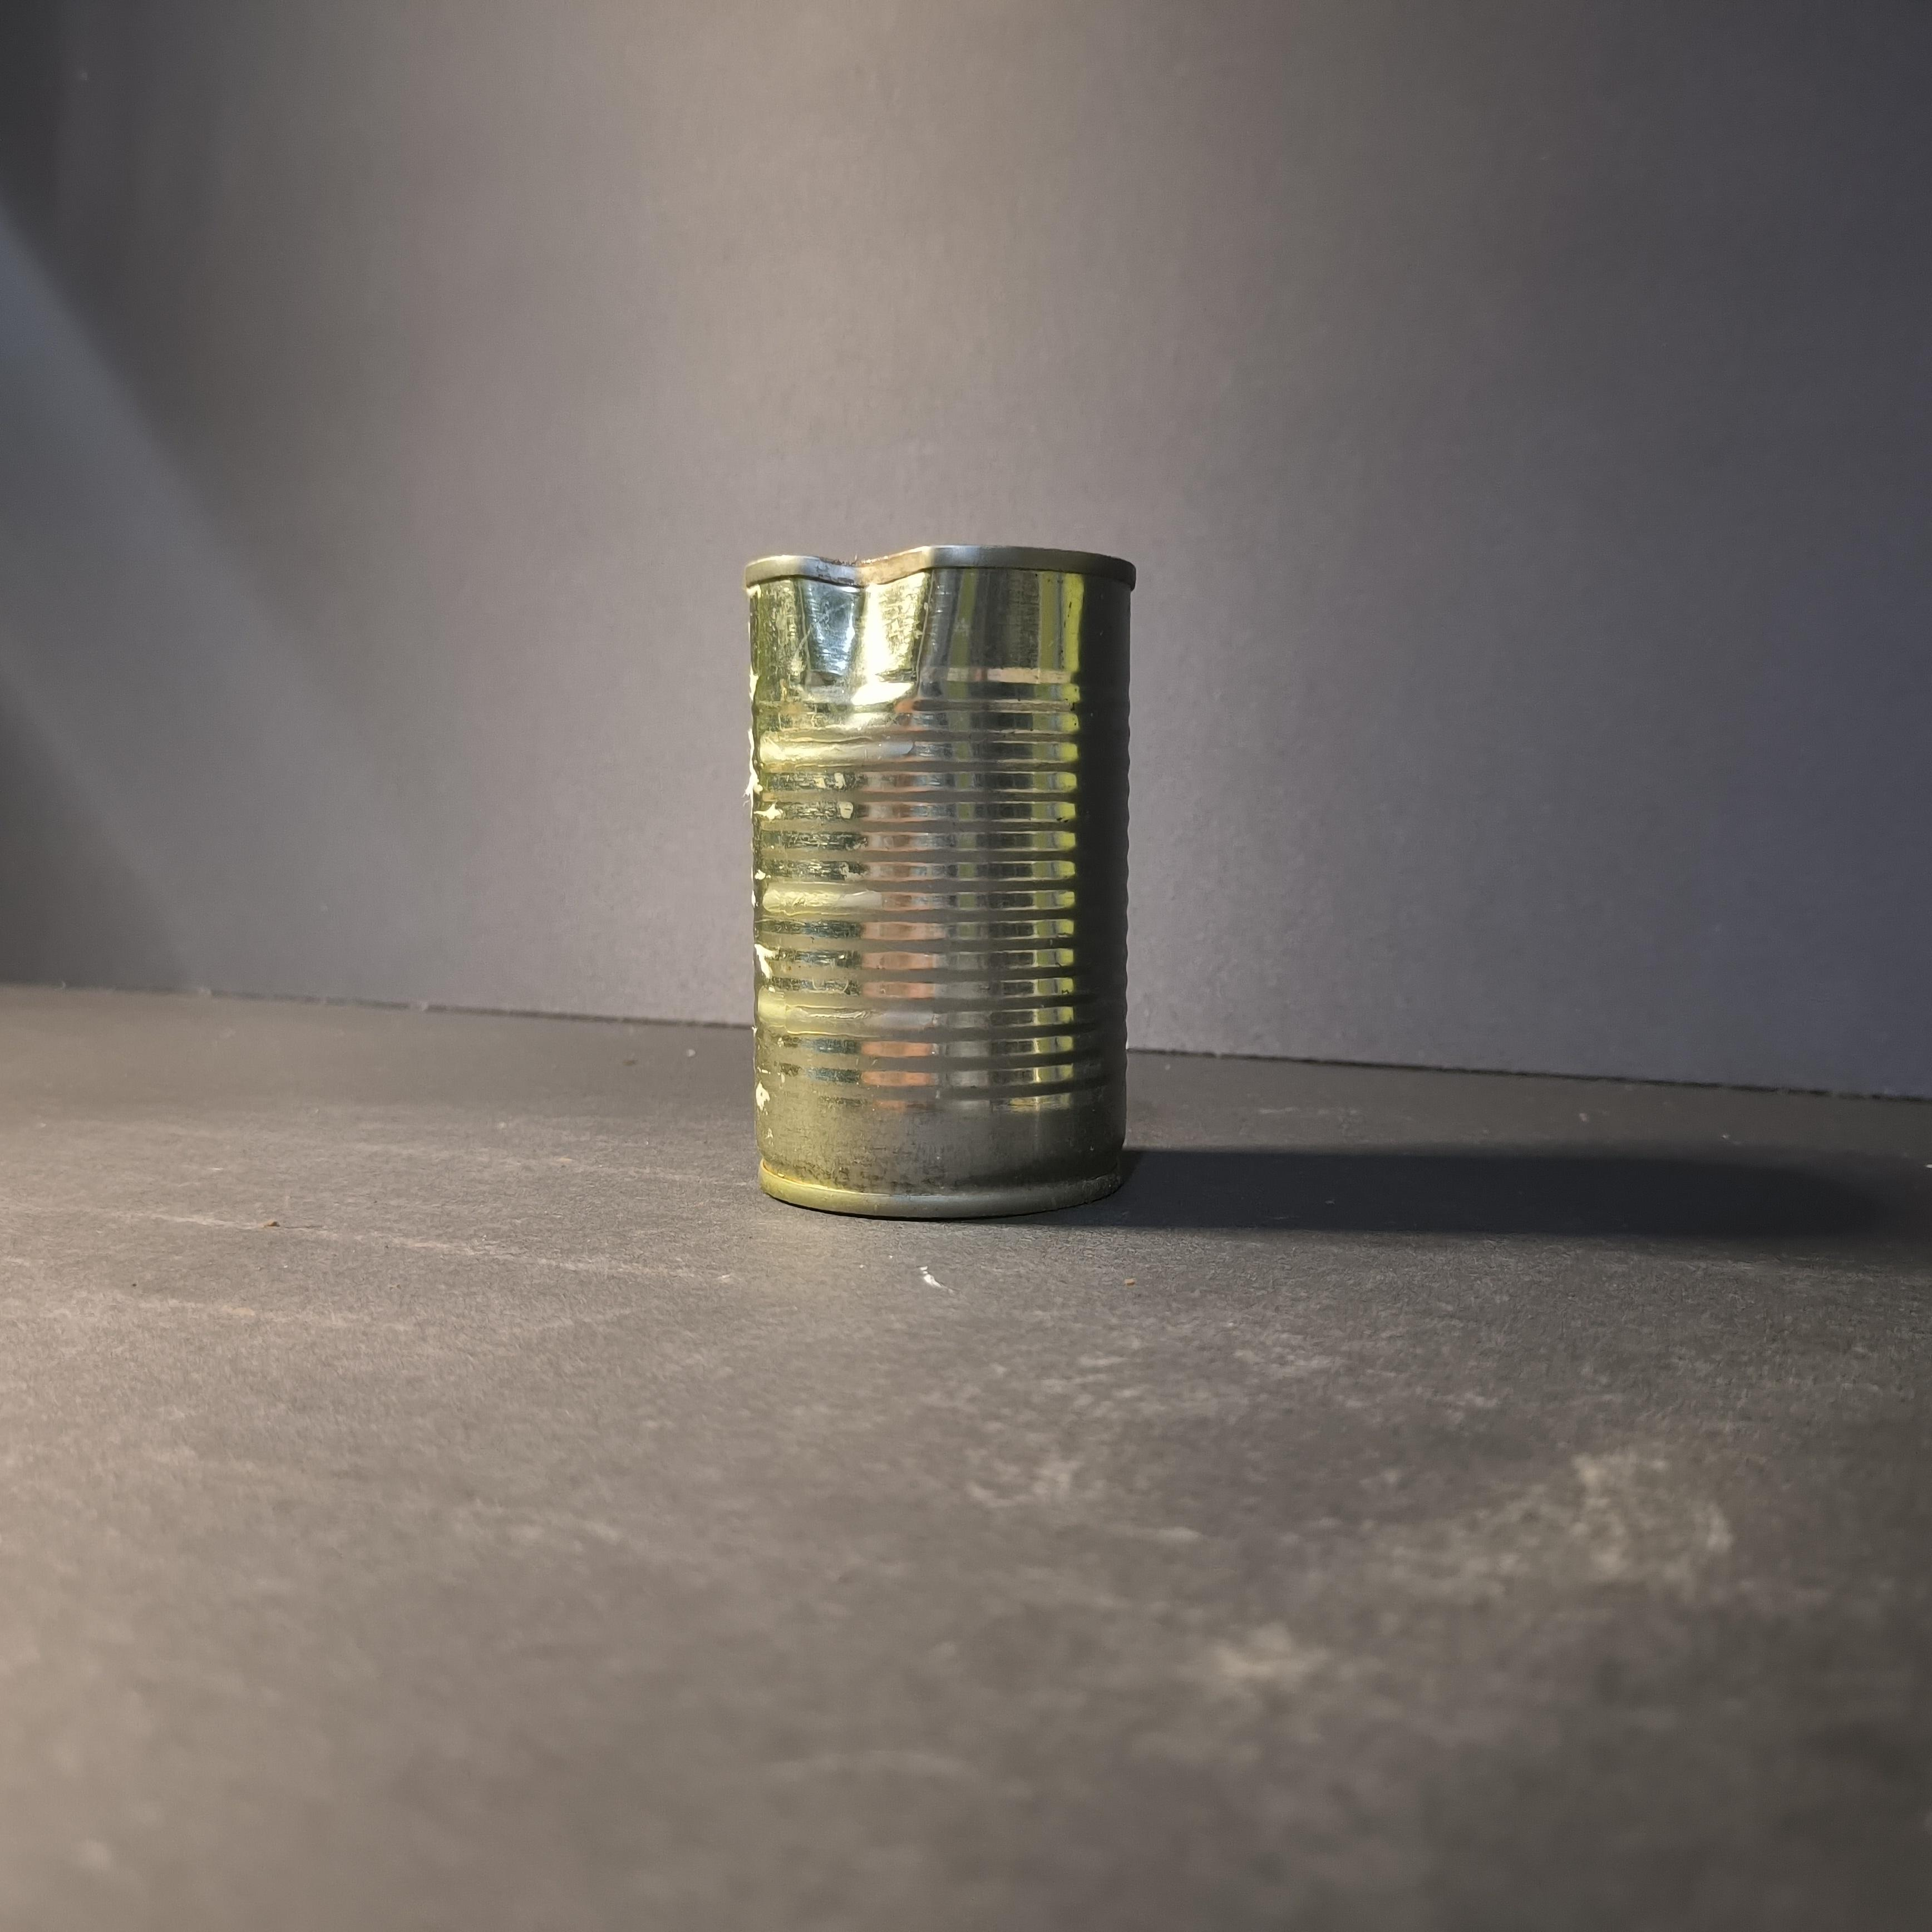Dented: (732, 529, 1166, 1228)
